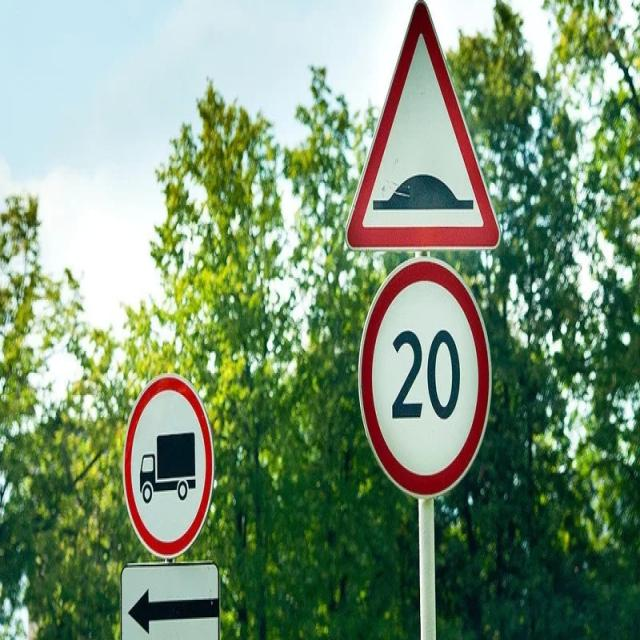Traffic sign: (345, 0, 500, 258), (358, 260, 490, 504), (124, 371, 214, 561), (117, 558, 223, 640)
